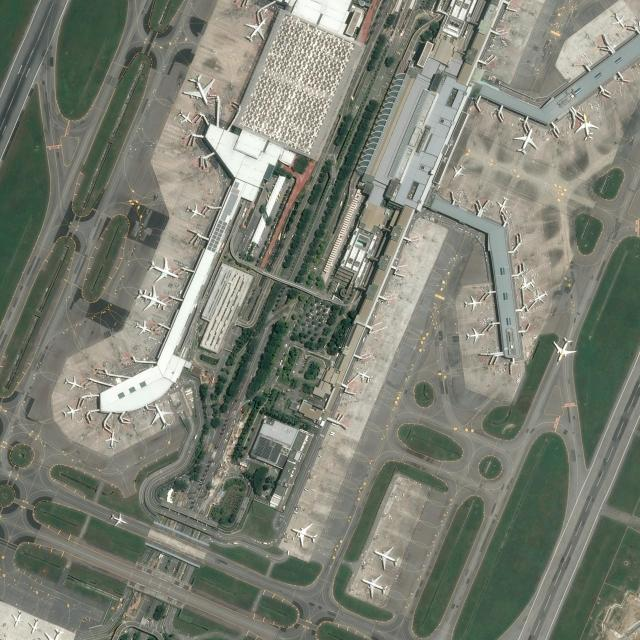aircraft: (182, 74, 214, 105), (135, 285, 166, 310), (148, 257, 178, 282), (572, 114, 598, 140), (513, 126, 537, 154), (553, 336, 577, 364), (290, 522, 318, 546), (360, 574, 388, 598), (373, 546, 400, 569), (151, 402, 173, 430), (243, 18, 266, 42), (466, 327, 484, 343), (105, 430, 119, 450), (110, 512, 127, 527), (186, 204, 204, 218), (63, 376, 81, 390), (464, 296, 482, 310), (62, 404, 80, 418), (496, 196, 510, 213), (532, 290, 550, 303), (134, 320, 150, 334), (520, 276, 536, 290), (611, 12, 625, 28), (178, 110, 192, 124), (357, 370, 372, 382), (454, 162, 466, 175)
